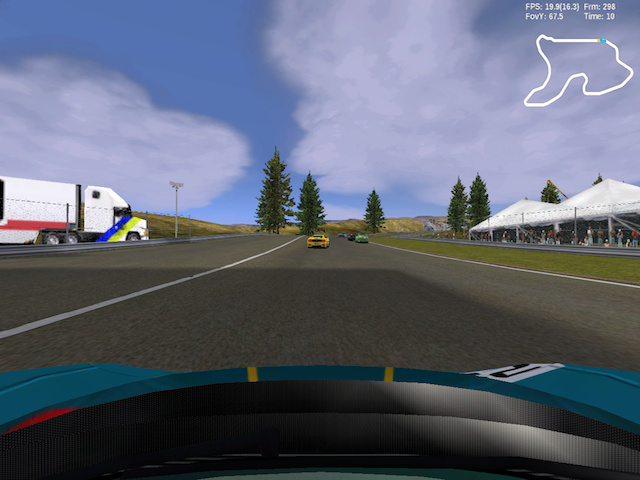Boxer96: (355, 233, 370, 244)
Cavallo360: (307, 234, 331, 249)
Spirit300: (348, 234, 355, 241)
